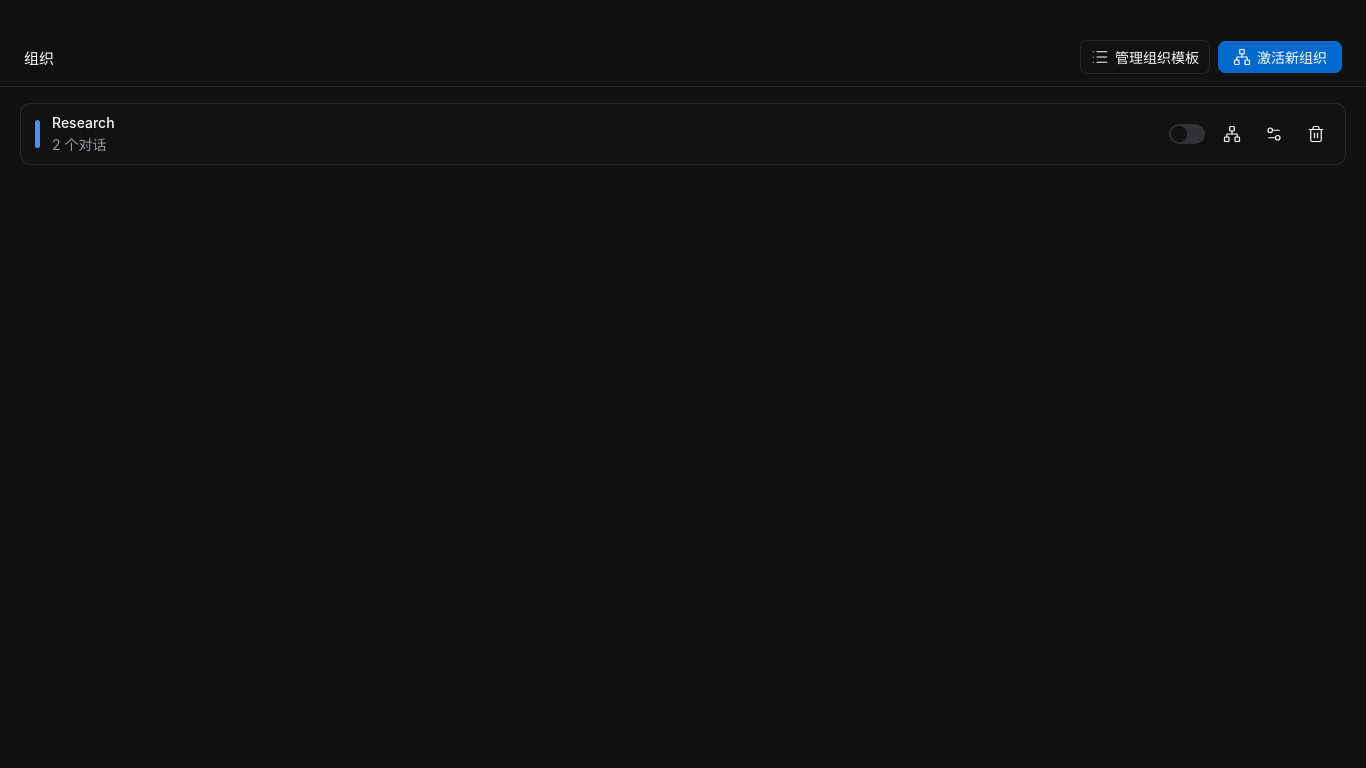
it: global organization management › keeps long unavailable-model member lists readable and the acknowledgement visible
The image size is (1366, 768).
Click the switch named "启用组织 Research" at (1187, 134), box [1169,124,1205,144]
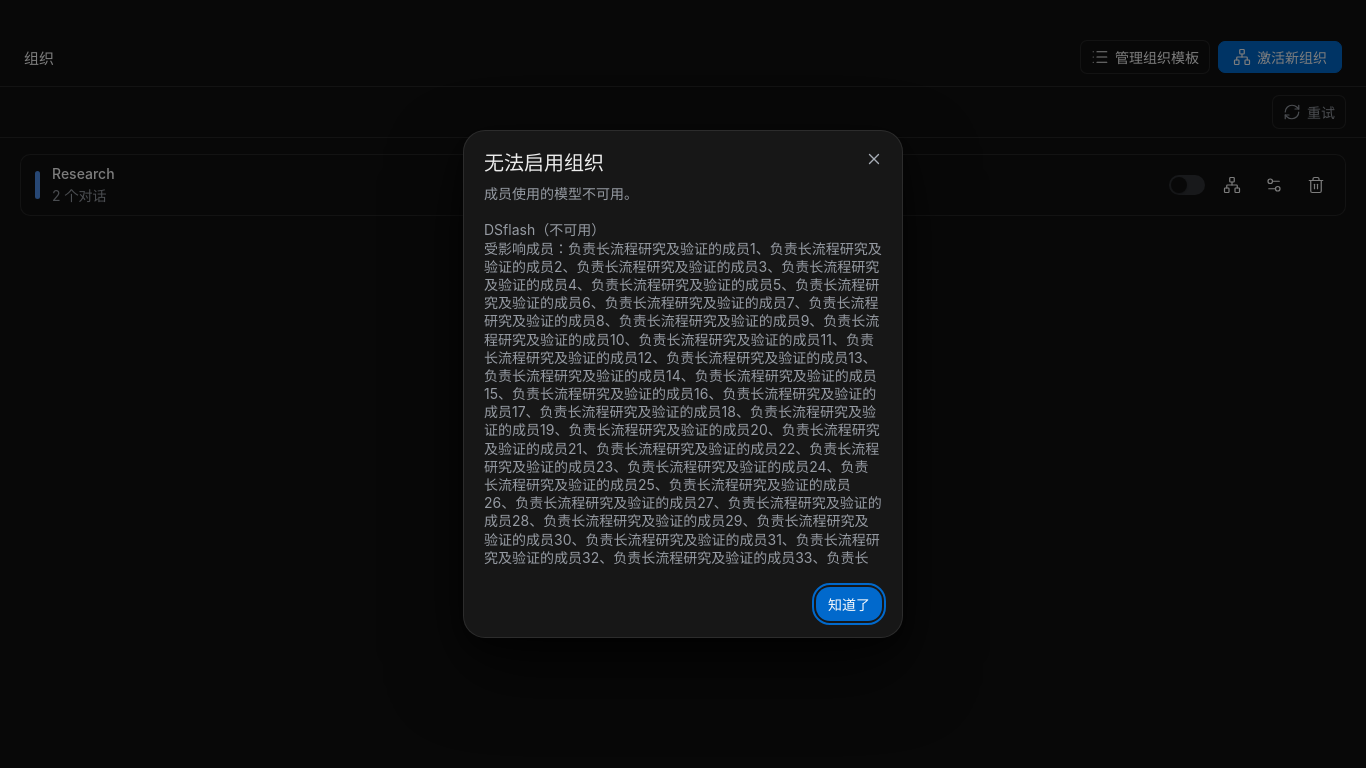
Expected: the dialog "无法启用组织" is shown, [463,130,903,638]
Expected: the button "知道了" is shown, [816,587,882,621]
